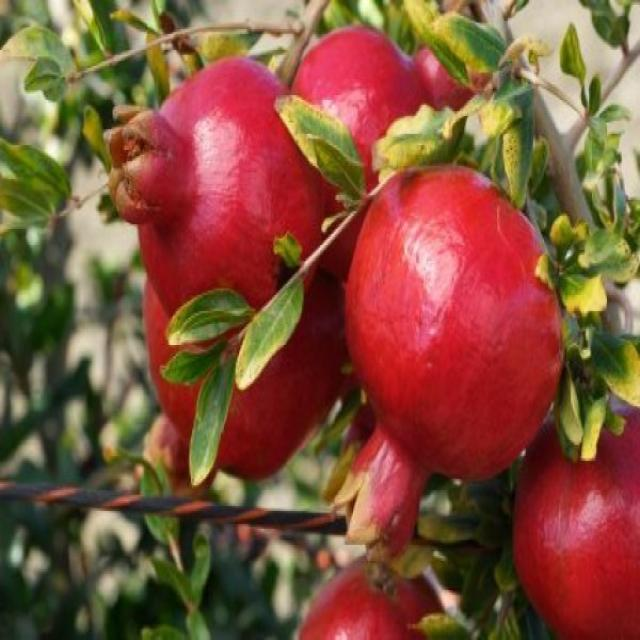apple: (342, 166, 573, 493), (105, 55, 332, 321), (138, 266, 346, 498), (285, 23, 452, 208), (507, 406, 639, 637)
